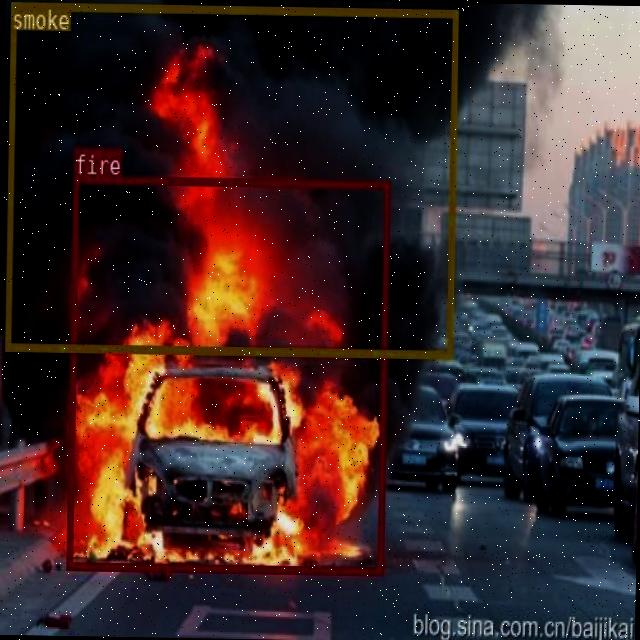fire: (66, 173, 388, 572)
smoke: (4, 0, 456, 357)
